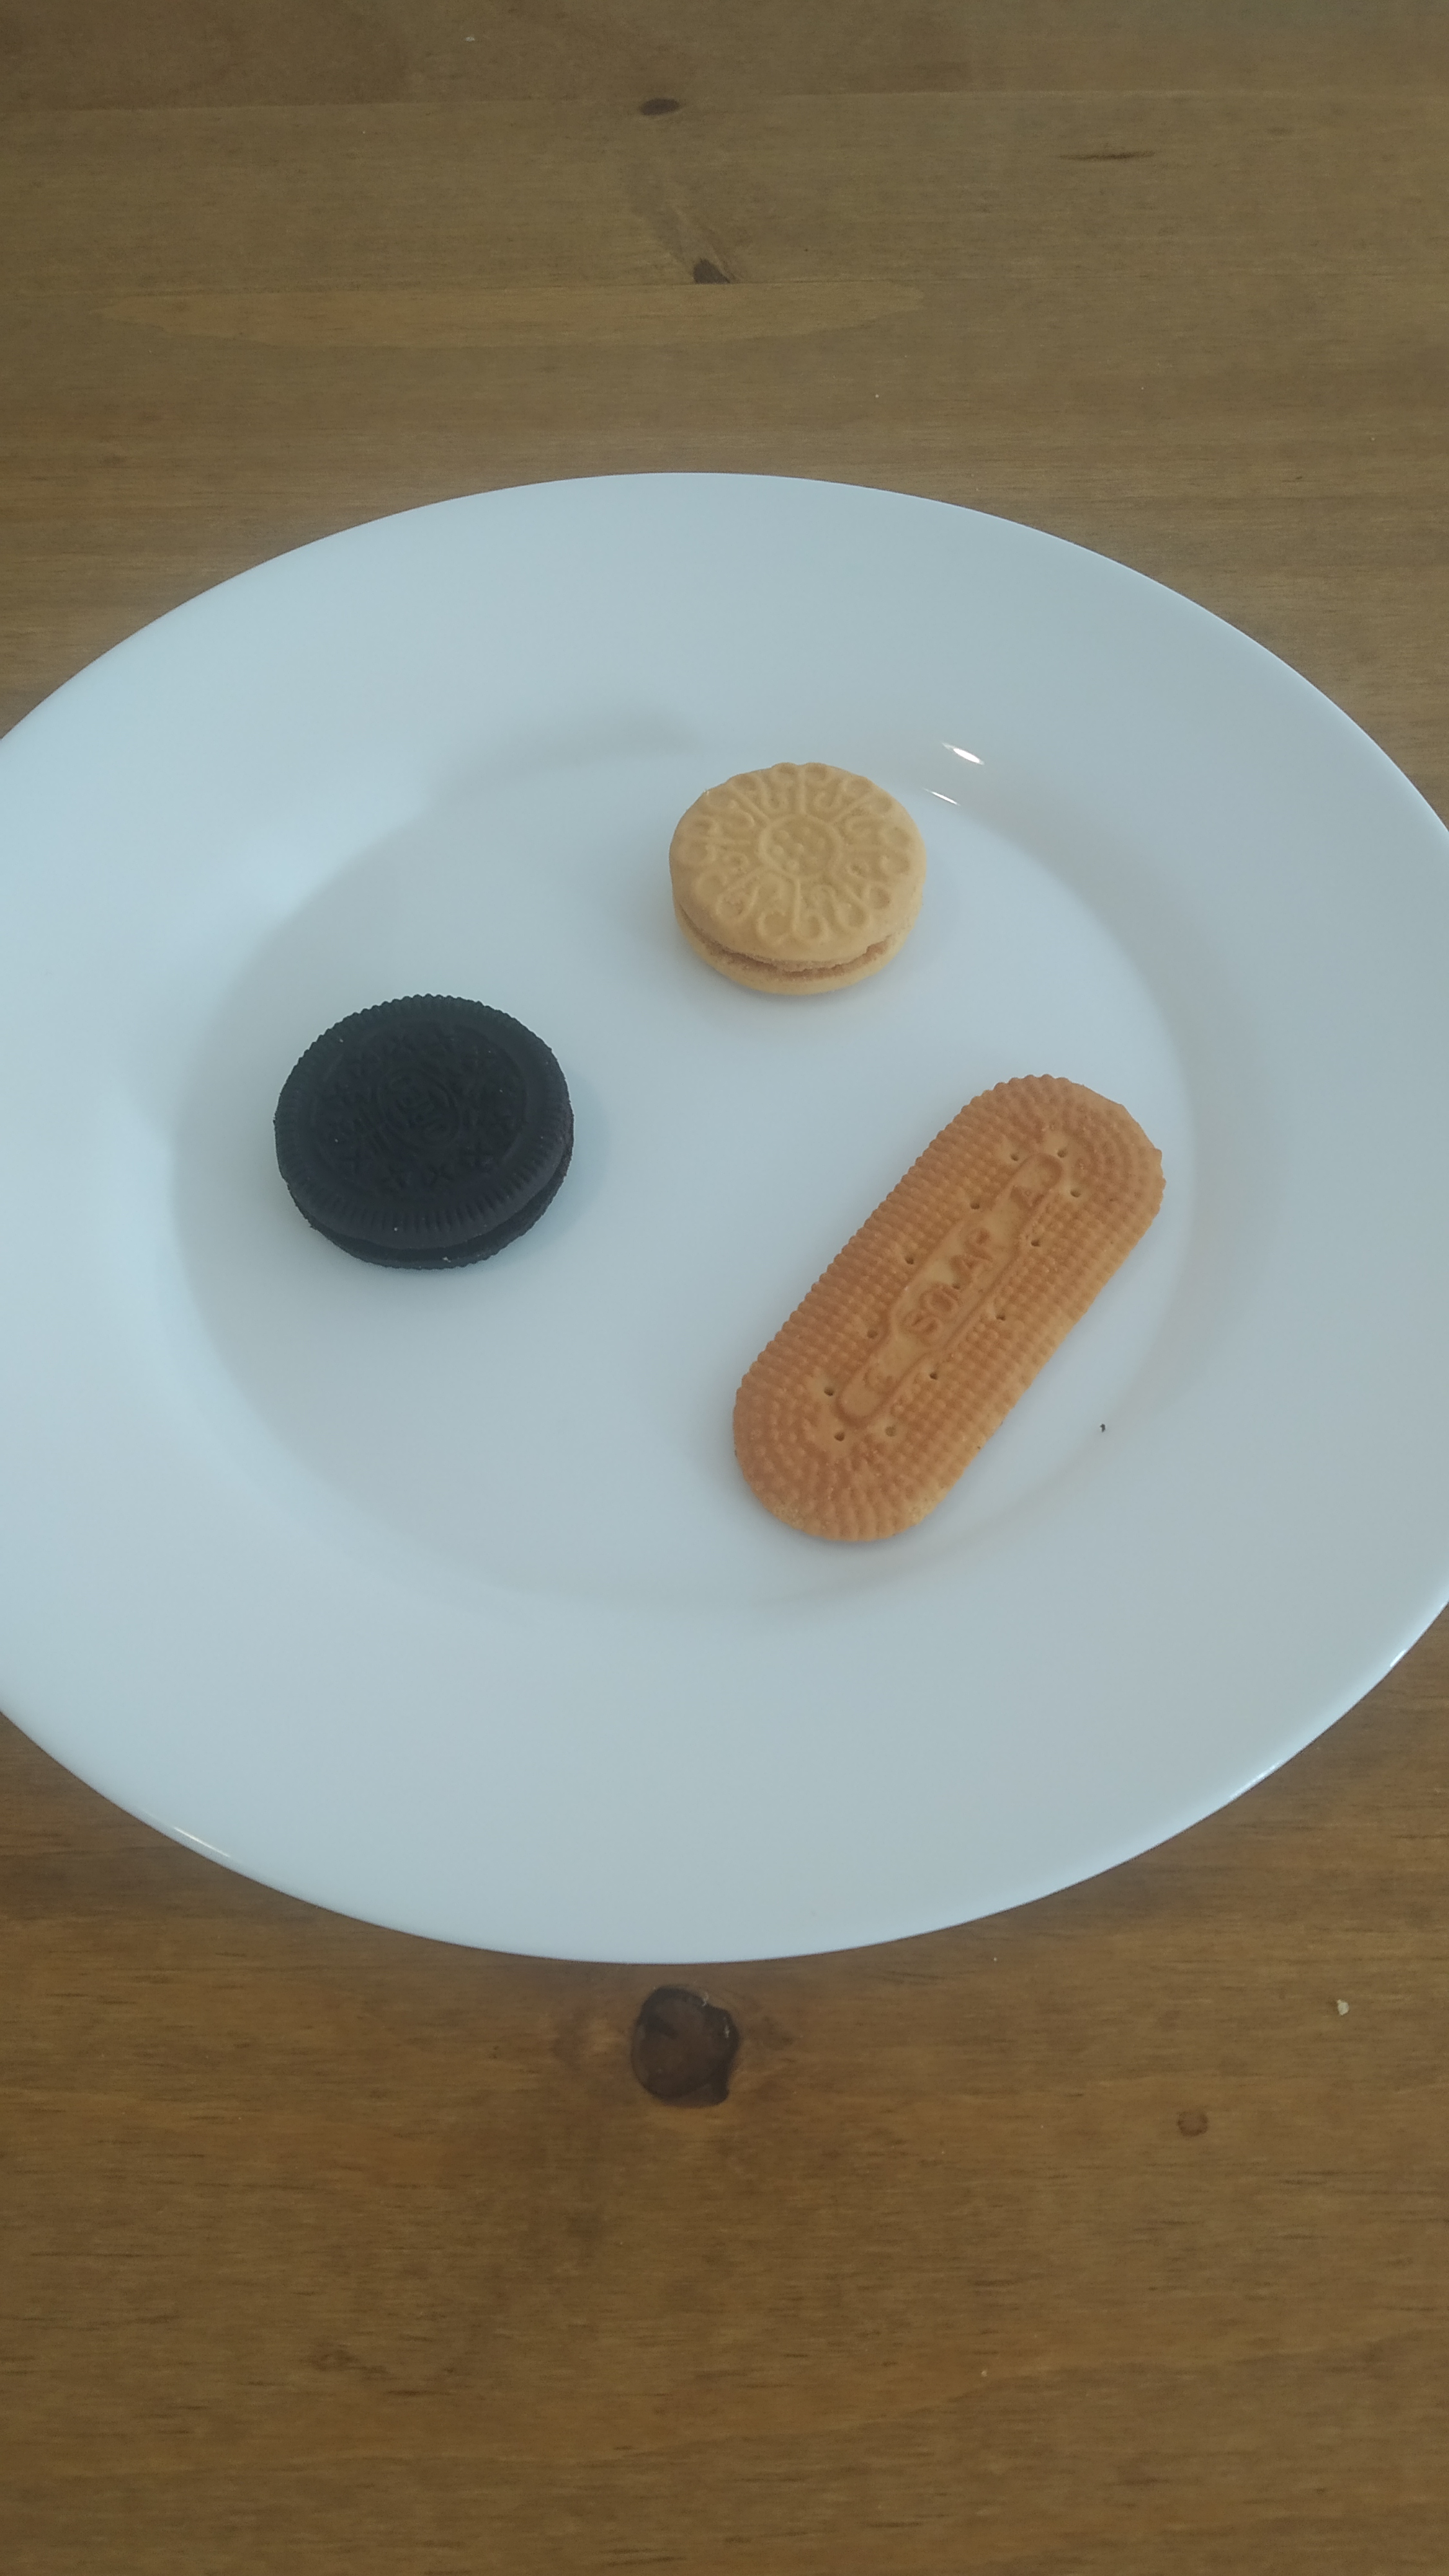lulu: (669, 763, 925, 994)
oreo: (274, 994, 577, 1270)
solar: (734, 1072, 1168, 1541)
